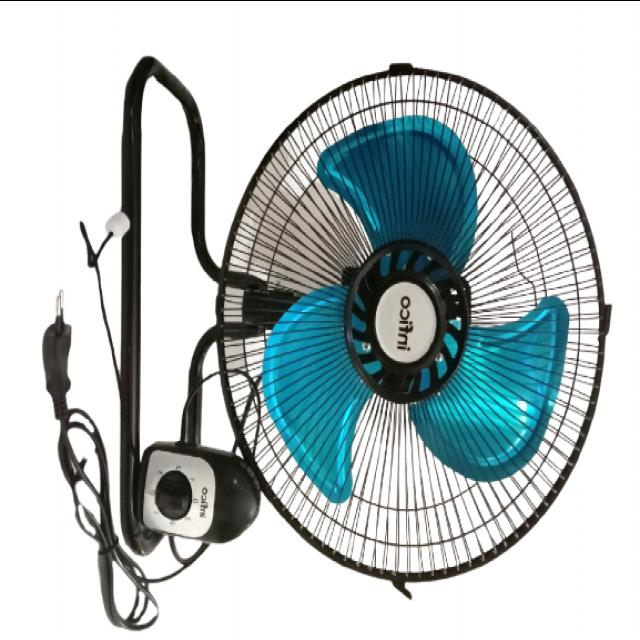fan: (41, 45, 612, 610)
